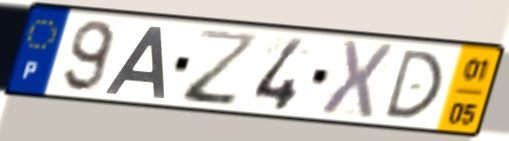4: (249, 34, 307, 113)
9: (60, 19, 117, 95)
A: (101, 23, 168, 101)
D: (380, 47, 445, 121)
X: (316, 37, 397, 121)
Z: (180, 27, 263, 110)
